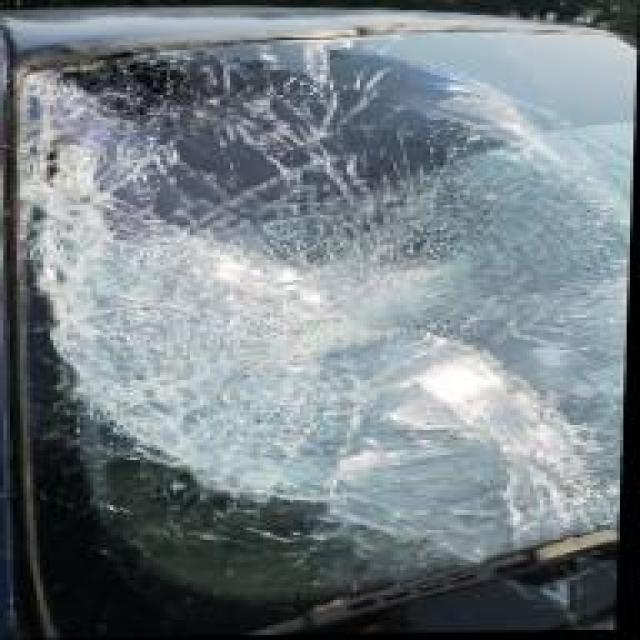Windshield: (37, 32, 636, 568)
